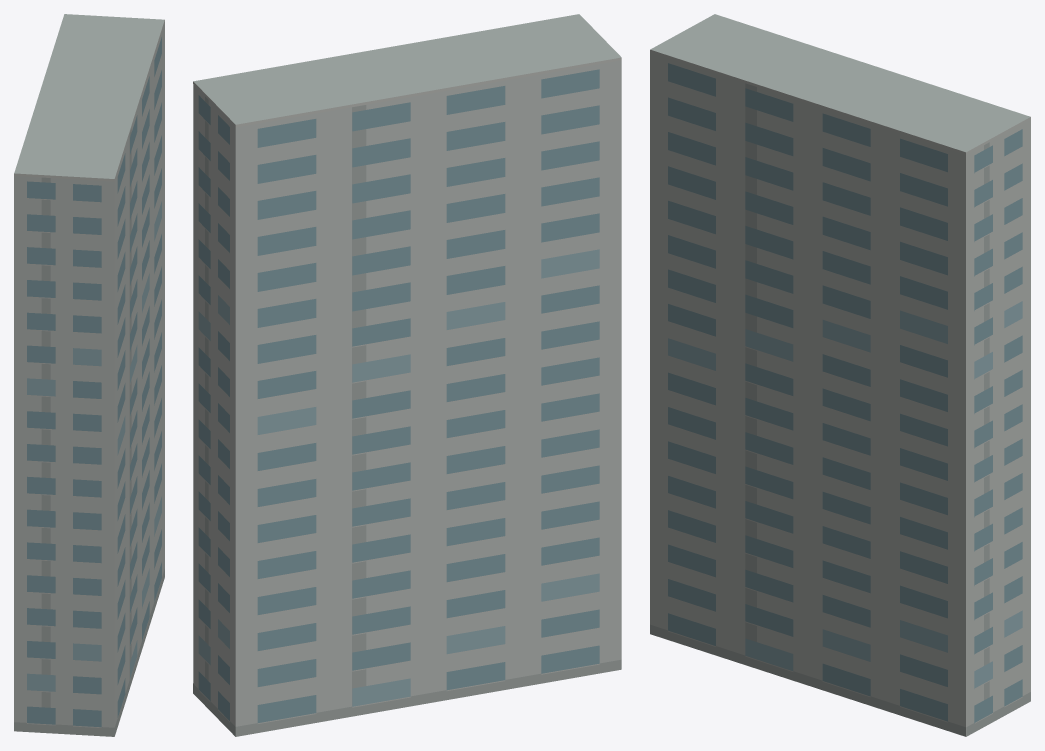
The model's file is residential-981a4b03-a580-4482-9d27-793320e13749.glb.
3 renders of one model, left to right at view 1: azimuth 30°, elevation 25°; view 2: azimuth 150°, elevation 25°; view 3: azimuth 270°, elevation 25°, orthographic. The views are drawn at different scales.
Parts seen in each view (by area): view 1: residential-981a4b03-a580-4482-9d27-793320e13749.tmp; view 2: residential-981a4b03-a580-4482-9d27-793320e13749.tmp; view 3: residential-981a4b03-a580-4482-9d27-793320e13749.tmp.
Boxes of the visible parts, x1,y1,x2,y2 form: residential-981a4b03-a580-4482-9d27-793320e13749.tmp: [14, 14, 164, 736]; residential-981a4b03-a580-4482-9d27-793320e13749.tmp: [193, 14, 621, 736]; residential-981a4b03-a580-4482-9d27-793320e13749.tmp: [650, 14, 1030, 736].
Size of the model in its own units: 26.92 by 53 by 31.3.
